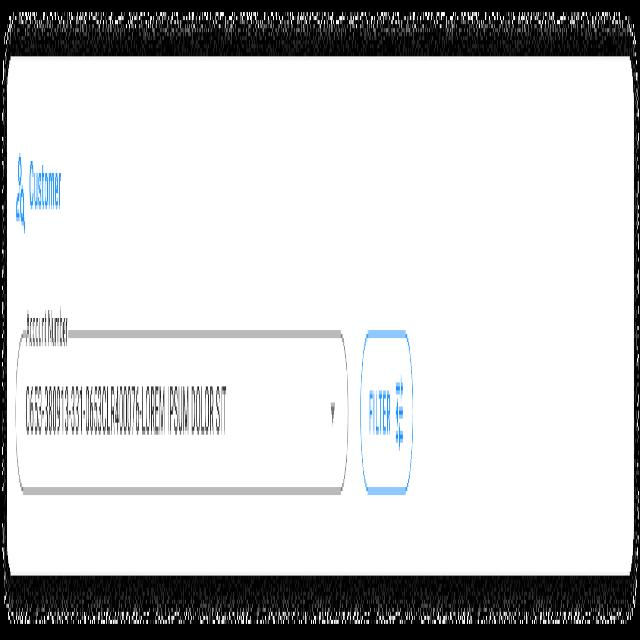QLabel: (366, 370, 392, 467), (28, 157, 62, 229)
VBtn: (360, 322, 414, 496)
VCard: (5, 56, 634, 592)
VCombobox: (14, 302, 348, 500)
VIcon: (12, 141, 26, 253), (393, 362, 405, 459)
